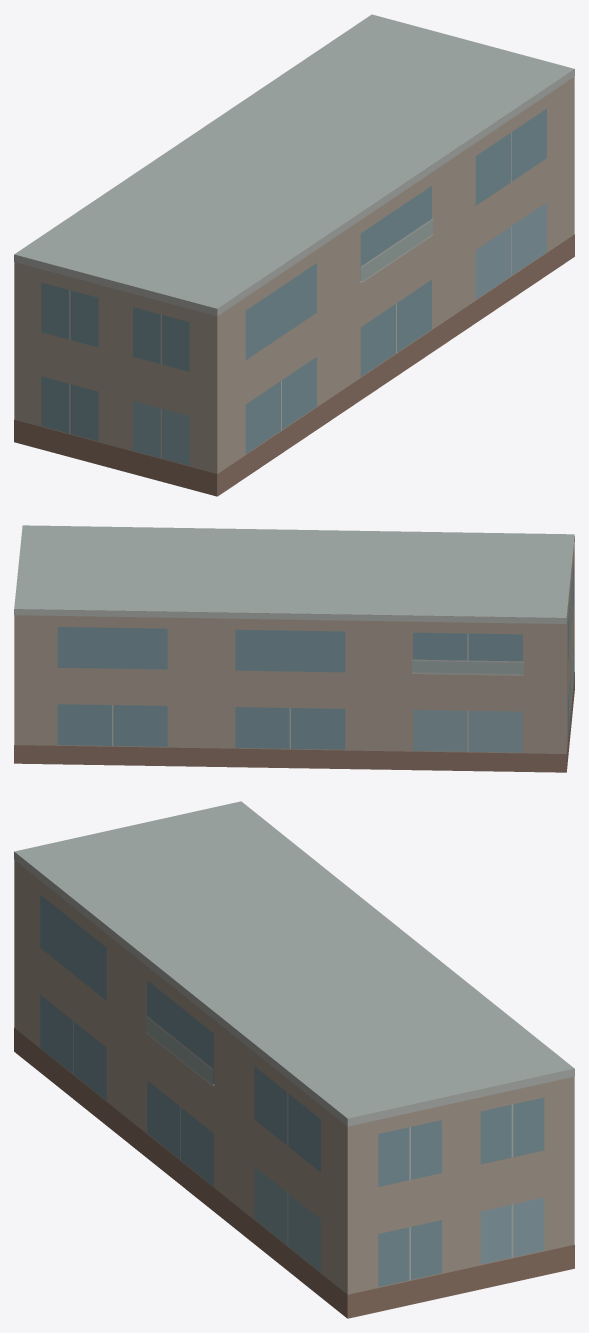
The model's file is survey-upis-32840380.glb.
The picture shows the model from 3 angles, top to bottom: view 1: azimuth 30°, elevation 25°; view 2: azimuth 150°, elevation 25°; view 3: azimuth 270°, elevation 25°; orthographic projection. The views are drawn at different scales.
Visible parts, largest first — view 1: survey-upis-32840380.tmp; view 2: survey-upis-32840380.tmp; view 3: survey-upis-32840380.tmp.
Boxes of the visible parts, <box> form: survey-upis-32840380.tmp: <box>14,14,574,496</box>; survey-upis-32840380.tmp: <box>14,525,574,772</box>; survey-upis-32840380.tmp: <box>14,801,574,1318</box>.
Bounding box in the file's own units: 20.77 × 6.1 × 15.51.
